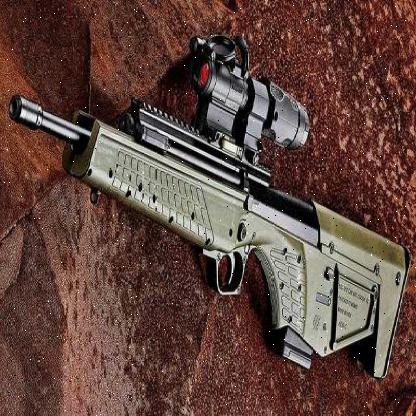rifle: (0, 40, 413, 388)
